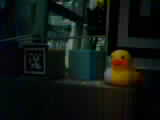duck: (100, 39, 135, 87)
